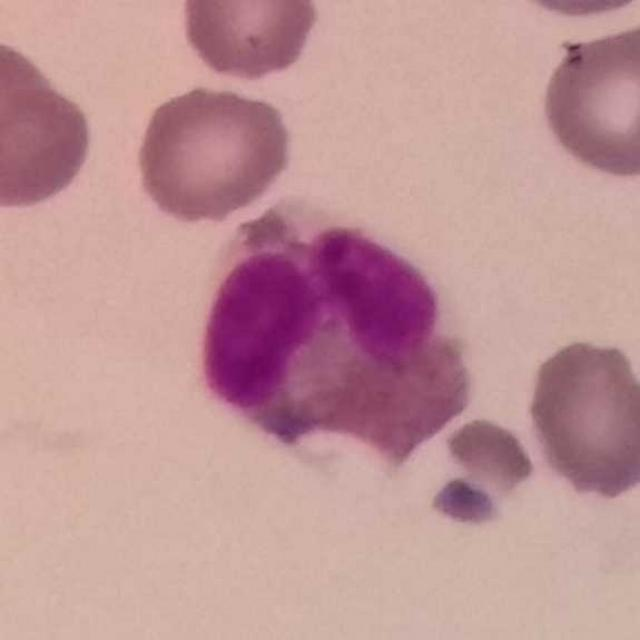Eosinophil: (199, 199, 470, 461)
Platelets: (430, 475, 503, 530)
RBC: (130, 80, 297, 225), (521, 332, 640, 504), (534, 14, 640, 182), (0, 72, 98, 214), (176, 0, 323, 86), (0, 29, 66, 185), (493, 0, 640, 22)
